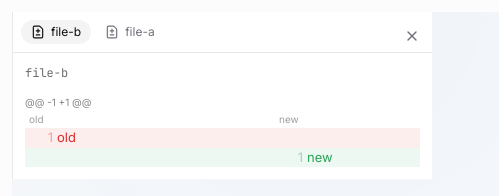
Test: PlaygroundPanel › clicking a tab pins it, ignoring which one is most recent
Check: the 2nd text "file-b" is shown, box left=25, top=65, right=68, bottom=81
// User clicks the older tab.
Click the button titled "file-a". click: (130, 32)
box: left=95, top=20, right=165, bottom=44
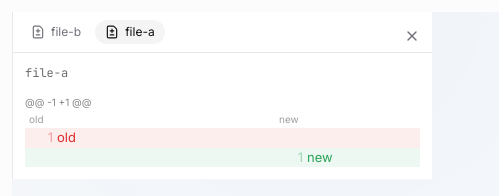
Check: the 2nd text "file-a" is shown, box left=25, top=65, right=68, bottom=81
